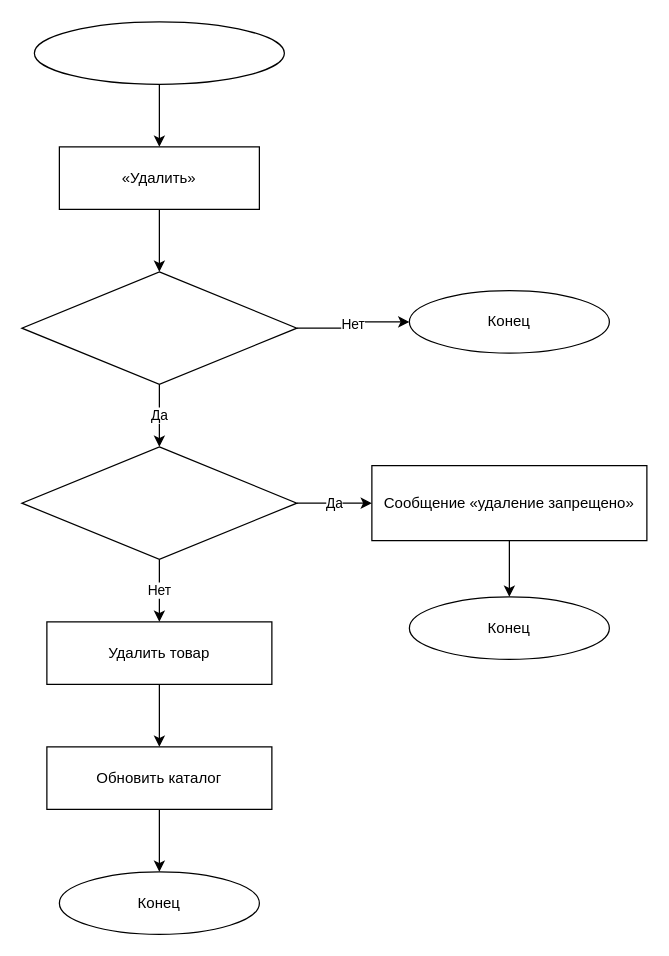
Some shapes in this 669 by 956 pixel diagram are drawn without their labels. Here are the shapes that lost their labels. From the top down, the box of each, then its label:
(33, 21, 284, 84): Начало: выбран товар
(21, 271, 297, 384): Удаление подтверждено?
(21, 446, 297, 559): Товар есть в заказе?
